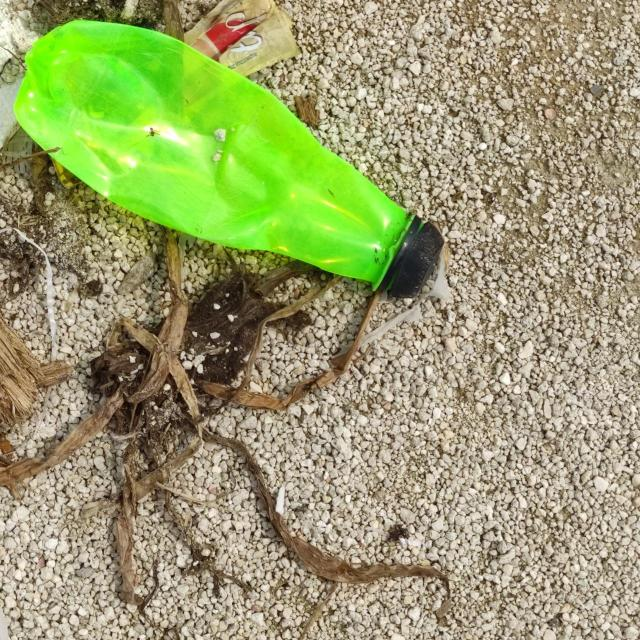plastic_waste: (15, 21, 448, 294)
